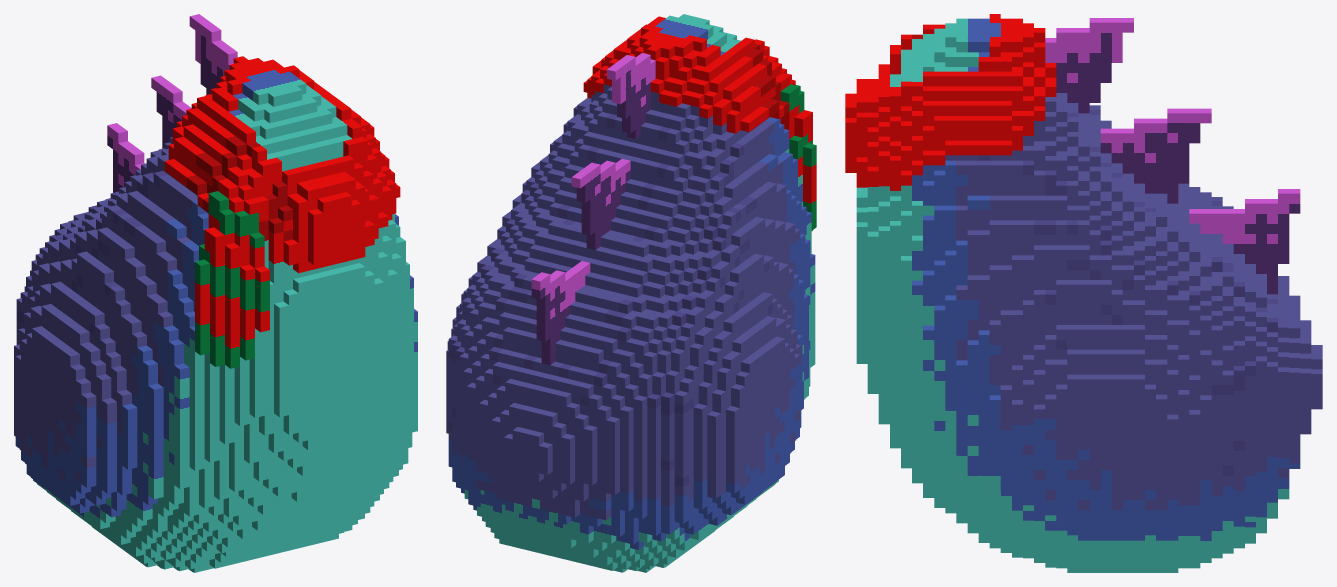
Rendered from red scarf.gltf.
3 renders of one model, left to right at view 1: azimuth 30°, elevation 25°; view 2: azimuth 150°, elevation 25°; view 3: azimuth 270°, elevation 25°, orthographic. The views are drawn at different scales.
Visible parts, largest first — view 1: 03_Body_RedScarf-Mesh; view 2: 03_Body_RedScarf-Mesh; view 3: 03_Body_RedScarf-Mesh.
Part boxes in pixels (<box>): 03_Body_RedScarf-Mesh: <box>14,14,417,572</box>; 03_Body_RedScarf-Mesh: <box>446,14,816,572</box>; 03_Body_RedScarf-Mesh: <box>845,14,1322,572</box>.
Size of the model in its own units: 33 by 51 by 43.
Materials: 1 (1 with a texture image).
